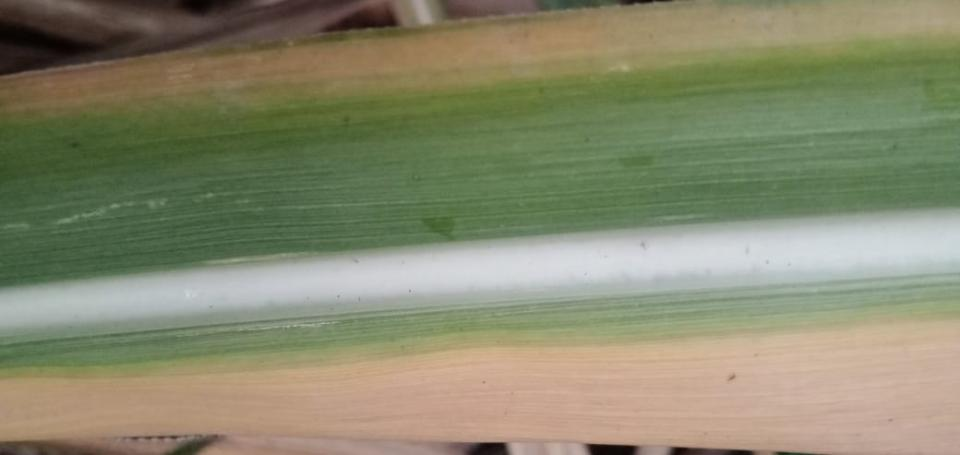Yellow: (0, 317, 959, 454), (0, 0, 959, 121)
